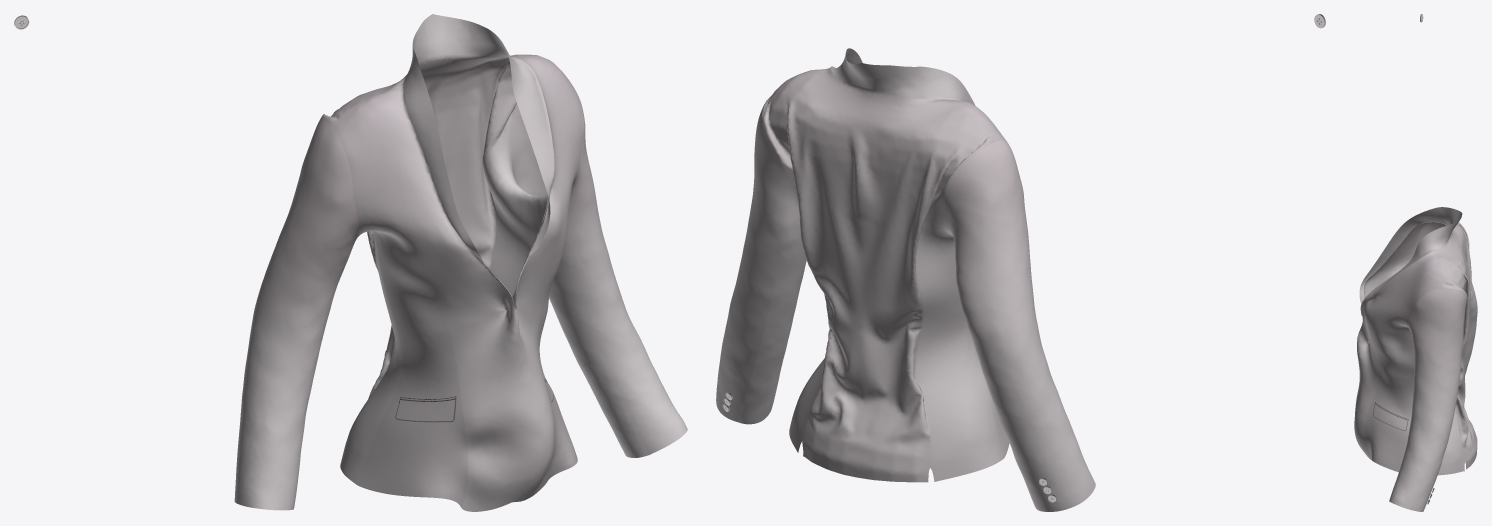
File: 136086 JERSEY FITTED TAILORED.fbx
3 views of the same model, side by side, from view 1: azimuth 30°, elevation 25°; view 2: azimuth 150°, elevation 25°; view 3: azimuth 270°, elevation 25° (orthographic). The views are drawn at different scales.
Parts seen in each view (by area): view 1: blaser; view 2: blaser; view 3: blaser.
Part boxes in pixels (x1,y1,x2,y2): blaser: (14, 14, 687, 511); blaser: (716, 14, 1325, 511); blaser: (1354, 14, 1477, 511).
Size of the model in its own units: 100 by 85.31 by 29.11.
